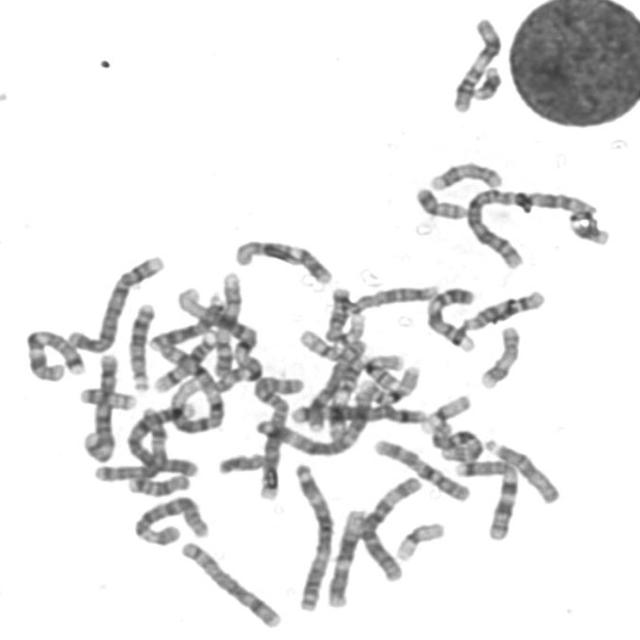A1: (173, 281, 268, 392), (148, 333, 229, 435)
A2: (460, 180, 604, 271), (250, 370, 306, 502)
A3: (253, 381, 378, 458), (289, 456, 339, 613)
B4: (64, 248, 168, 354), (122, 401, 204, 478)
B5: (78, 346, 123, 464), (282, 395, 430, 427)
C10: (370, 432, 475, 503), (423, 423, 487, 467)
C11: (448, 11, 506, 114), (323, 347, 379, 440)
C12: (229, 233, 337, 286), (323, 503, 370, 609)
C6: (355, 470, 426, 584), (130, 490, 213, 547)
C7: (449, 453, 524, 542), (21, 322, 91, 383)
C8: (176, 534, 286, 630), (302, 332, 371, 434)
C9: (422, 281, 482, 352), (209, 266, 245, 379)
D13: (146, 289, 226, 352), (124, 296, 160, 392)
D14: (149, 329, 222, 393), (456, 284, 550, 332)
D15: (480, 431, 565, 506), (346, 278, 443, 314)
E16: (361, 358, 425, 407), (359, 351, 408, 388)
E17: (476, 320, 524, 390), (425, 156, 508, 192)
E18: (321, 282, 358, 348), (124, 468, 193, 498)
F19: (392, 516, 449, 563), (416, 388, 474, 434)
F20: (410, 180, 470, 220), (76, 381, 140, 411)
G21: (564, 211, 614, 247), (467, 59, 507, 102)
G22: (294, 323, 358, 365), (334, 307, 370, 347)
Y: (214, 446, 269, 475)
